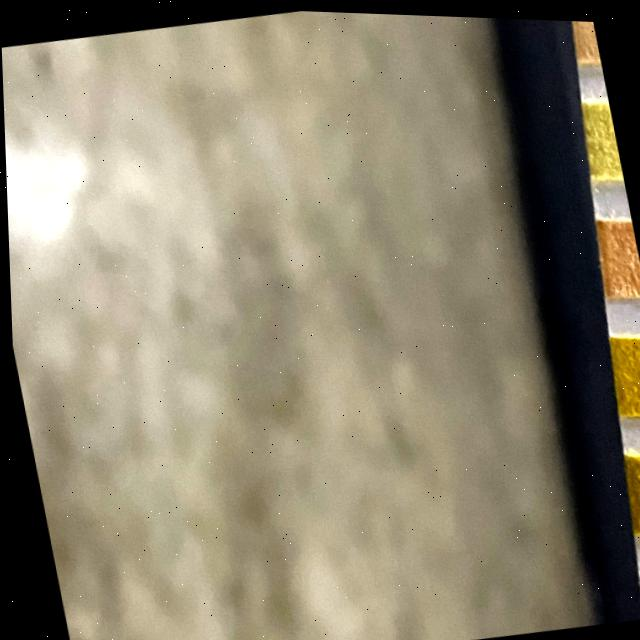Blood: (608, 334, 640, 407)
Ketone: (634, 574, 640, 614)
Protein: (581, 99, 621, 172)
SpGravity: (621, 452, 640, 527)
Urobilinogen: (571, 17, 600, 54)
pH: (594, 217, 640, 287)
